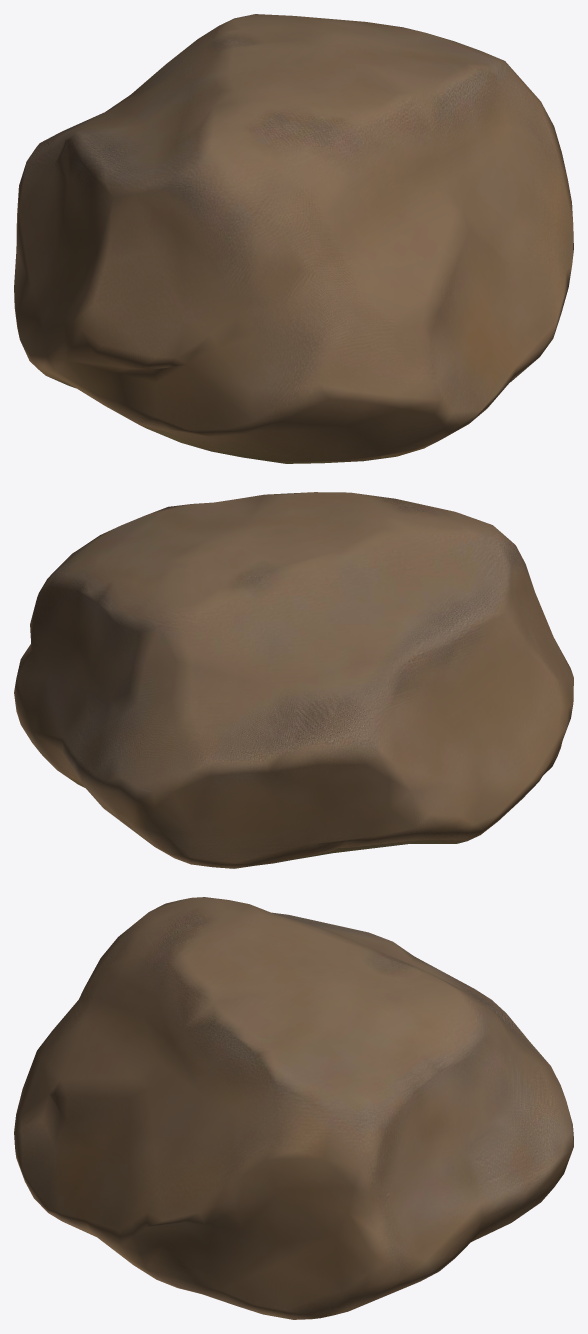
File: stone_01.glb
The picture shows the model from 3 angles, top to bottom: view 1: azimuth 30°, elevation 25°; view 2: azimuth 150°, elevation 25°; view 3: azimuth 270°, elevation 25°; orthographic projection. The views are drawn at different scales.
Visible parts, largest first — view 1: tripo_node_fa9bc716-bfeb-4410-822f-fe23a229dd5f; view 2: tripo_node_fa9bc716-bfeb-4410-822f-fe23a229dd5f; view 3: tripo_node_fa9bc716-bfeb-4410-822f-fe23a229dd5f.
Boxes of the visible parts, x1,y1,x2,y2 form: tripo_node_fa9bc716-bfeb-4410-822f-fe23a229dd5f: (14, 14, 573, 463); tripo_node_fa9bc716-bfeb-4410-822f-fe23a229dd5f: (14, 492, 573, 868); tripo_node_fa9bc716-bfeb-4410-822f-fe23a229dd5f: (14, 897, 573, 1319).
Bounding box in the file's own units: 0.9152 × 0.5 × 0.9224.
1 material, 1 textured.
